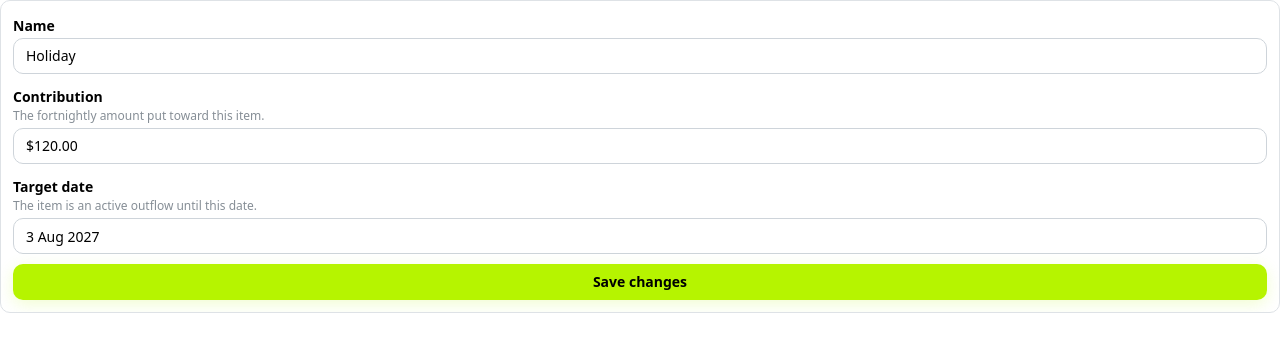
Scenario: TemporaryItemForm › shows an error when saving fails
What coordinates should you click on to do the following:
click the button "Save changes"
I would click on:
 (640, 282)
Its box is [13,264,1267,300].
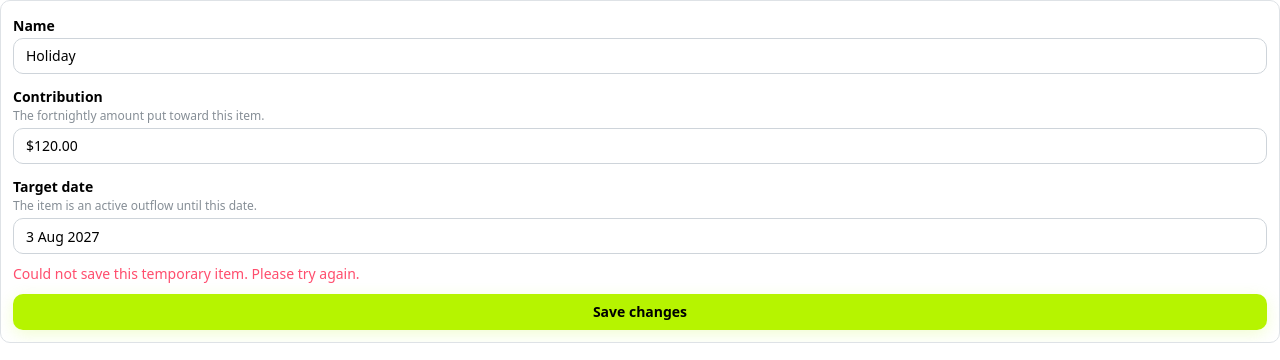
Now the message "Could not save this temporary item. Please try again." is shown, box [13,264,360,283]
